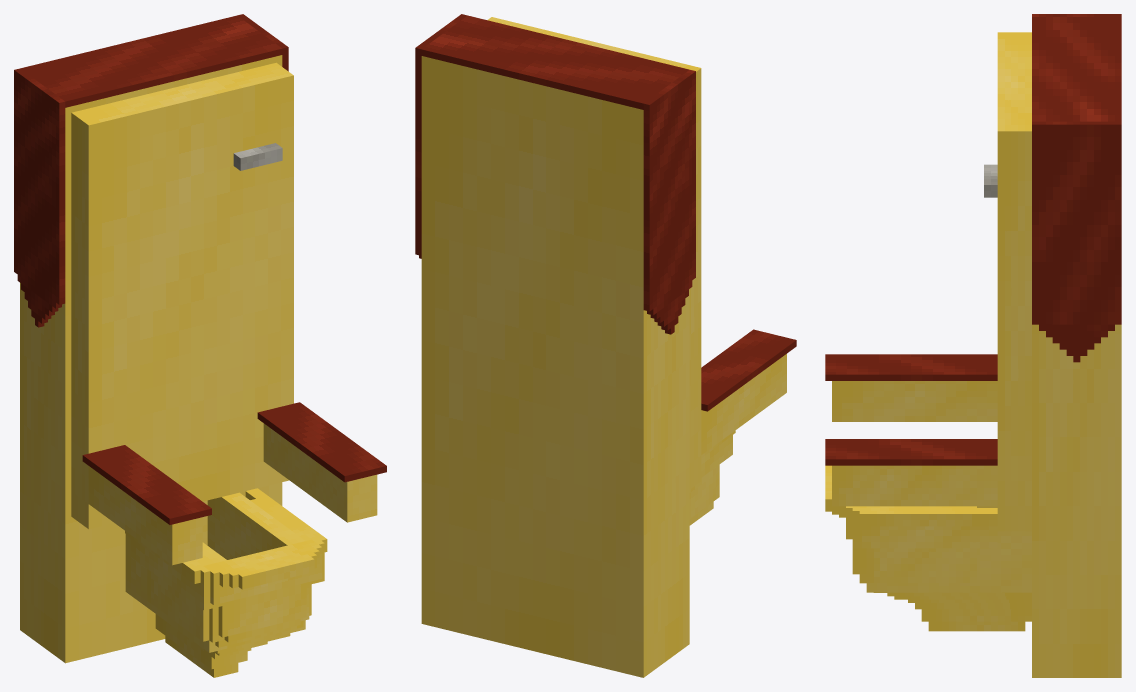
Rendered from Toilette.fbx.
3 renders of one model, left to right at view 1: azimuth 30°, elevation 25°; view 2: azimuth 150°, elevation 25°; view 3: azimuth 270°, elevation 25°, orthographic. The views are drawn at different scales.
Parts seen in each view (by area): view 1: cube; view 2: cube; view 3: cube.
Boxes of the visible parts, x1=… form: cube: x1=14, y1=14, x2=386, y2=677; cube: x1=415, y1=14, x2=796, y2=677; cube: x1=825, y1=14, x2=1121, y2=677.
Size of the model in its own units: 238 by 556 by 269.
3 materials, 3 textured.
